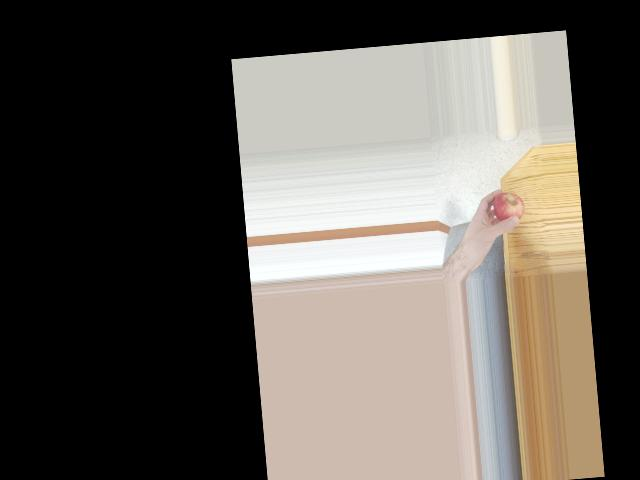apple: (491, 189, 524, 225)
